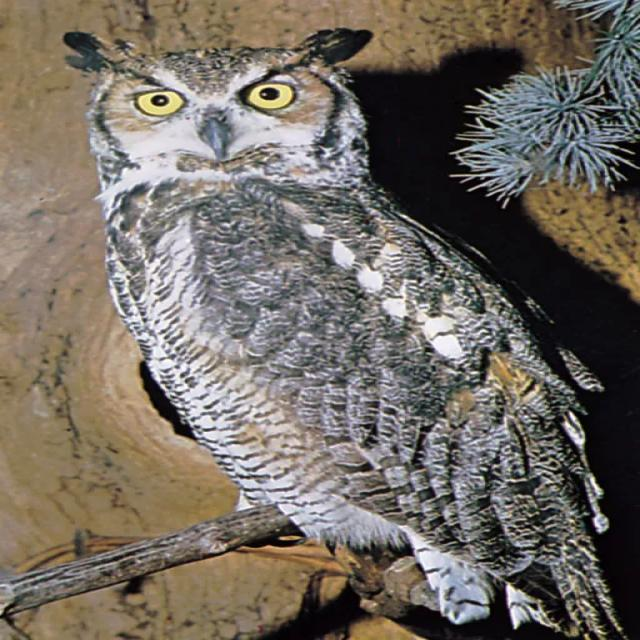owl: (32, 21, 632, 640)
